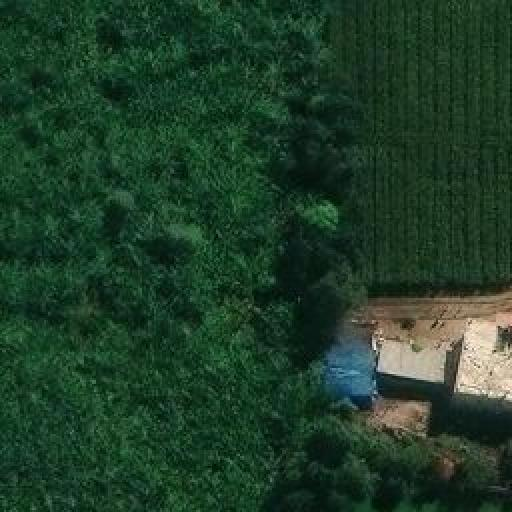manzanas: (316, 313, 510, 467)
